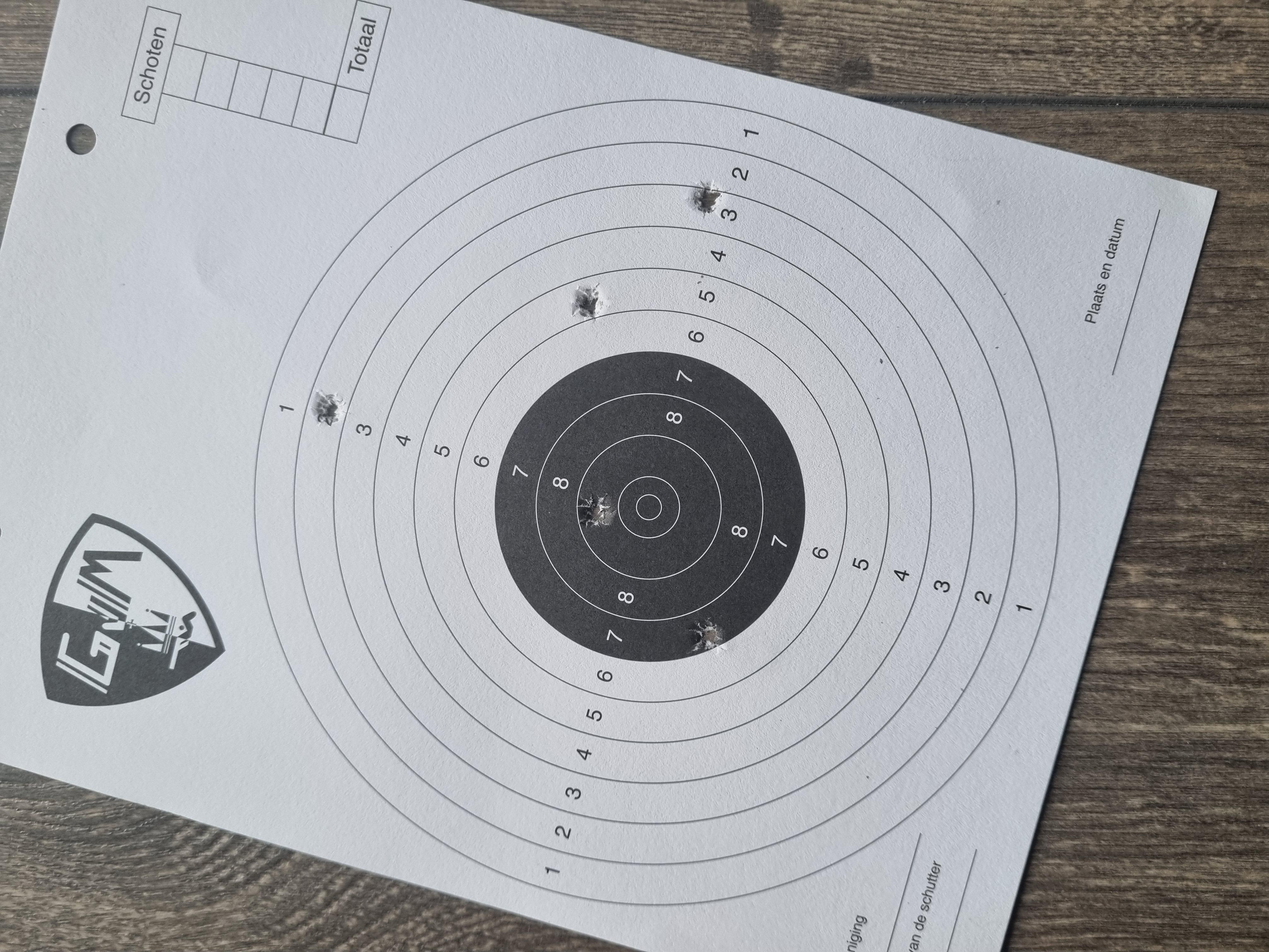hole: (396, 516, 446, 546), (838, 428, 894, 453), (979, 516, 1026, 542), (701, 235, 750, 259), (566, 432, 611, 458)
